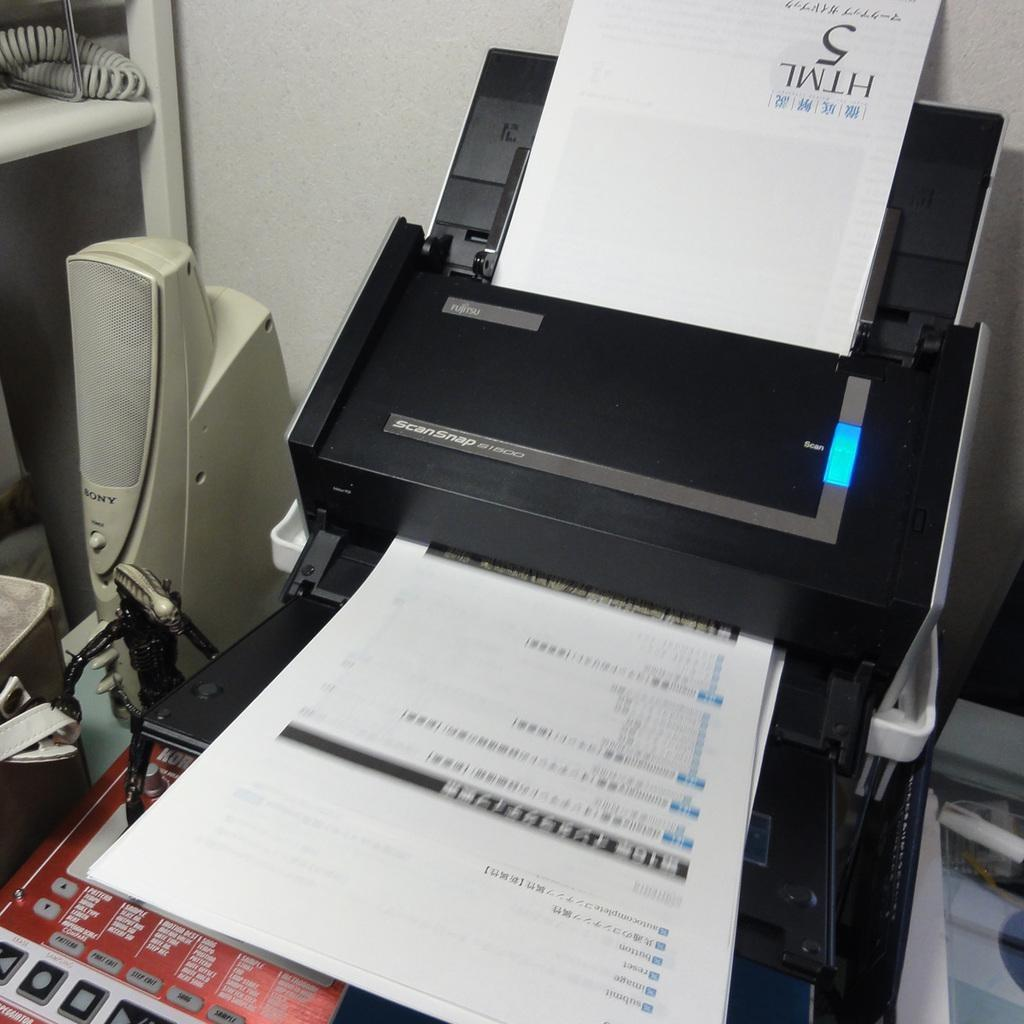Printer: (139, 45, 1004, 984)
